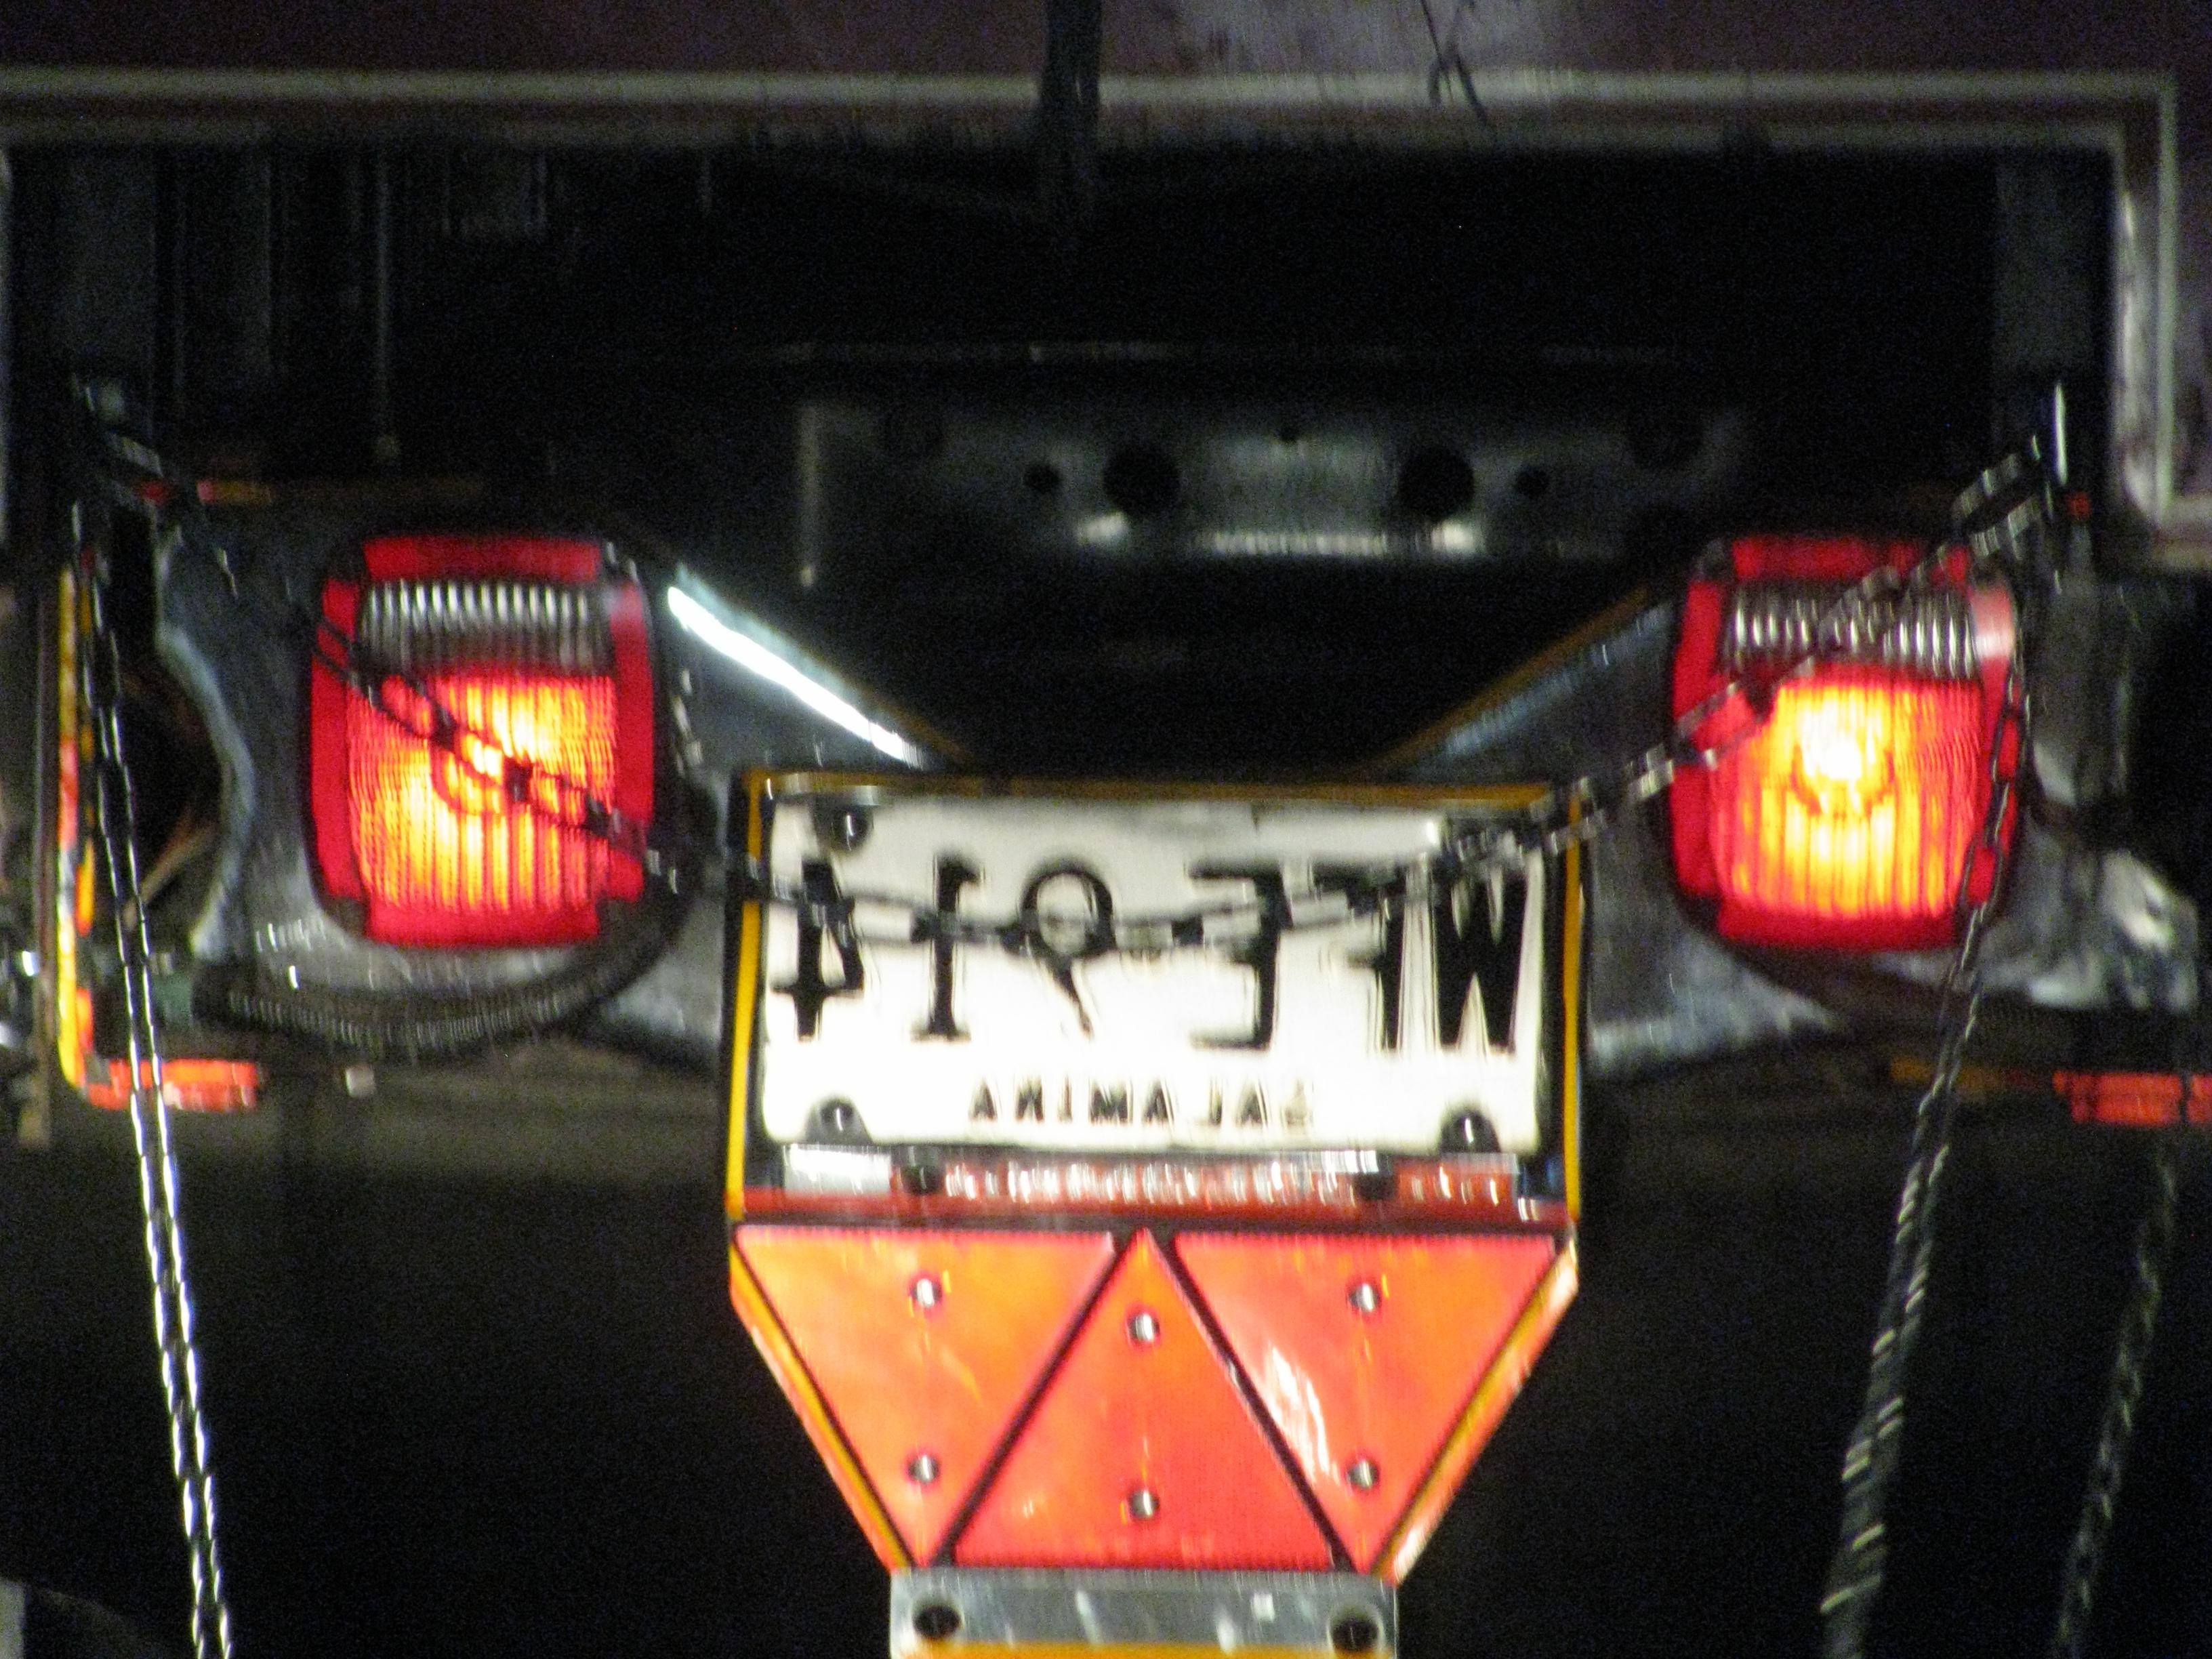placas: (743, 772, 1589, 1162)
